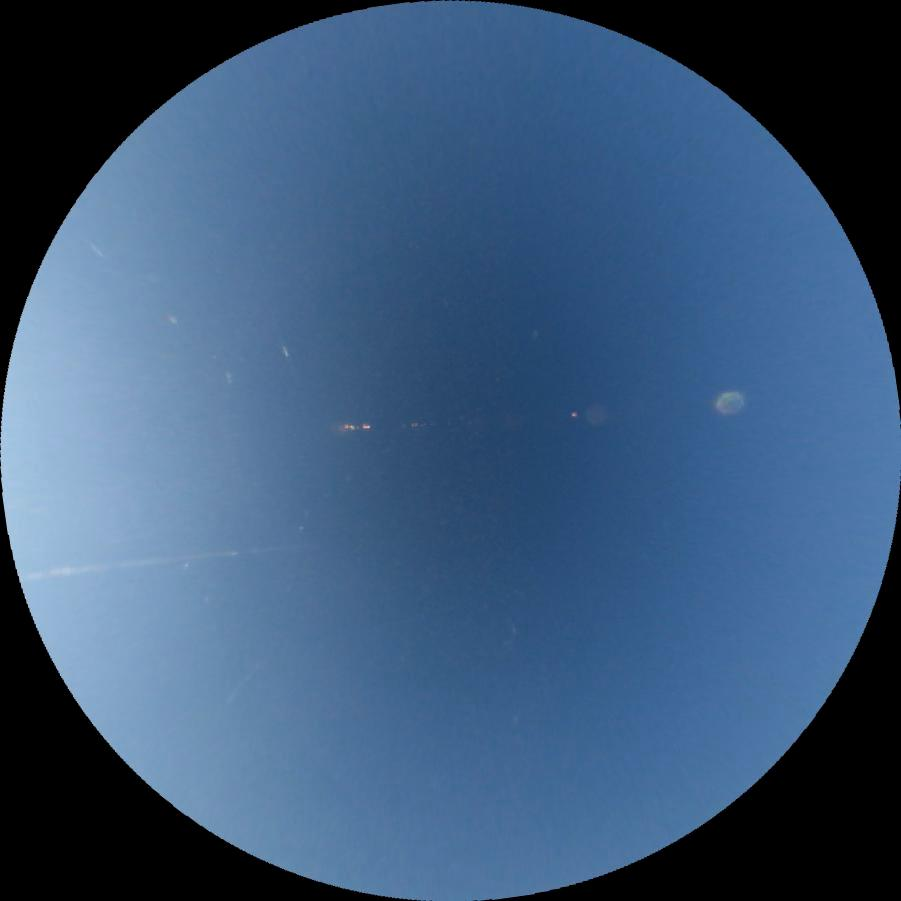contrail young: (76, 232, 108, 260)
parasite: (19, 538, 316, 582), (275, 330, 298, 372)
